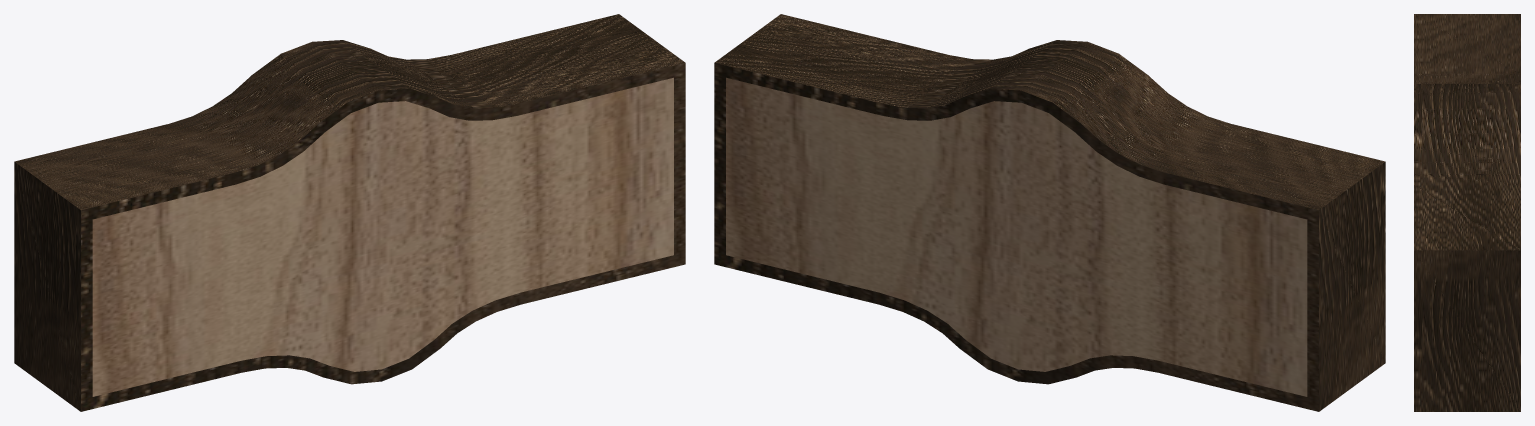
The model's file is Minus.FBX.
3 renders of one model, left to right at view 1: azimuth 30°, elevation 25°; view 2: azimuth 150°, elevation 25°; view 3: azimuth 270°, elevation 25°, orthographic. The views are drawn at different scales.
Visible parts, largest first — view 1: Minus, Minus_outline; view 2: Minus, Minus_outline; view 3: Minus_outline.
Part boxes in pixels (x1=…): Minus: x1=92, y1=77, x2=673, y2=396; Minus_outline: x1=14, y1=14, x2=685, y2=411; Minus: x1=726, y1=77, x2=1307, y2=396; Minus_outline: x1=714, y1=14, x2=1385, y2=411; Minus_outline: x1=1414, y1=14, x2=1520, y2=411.
Bounding box in the file's own units: 52.4 × 24.16 × 10.
2 materials, 2 textured.
